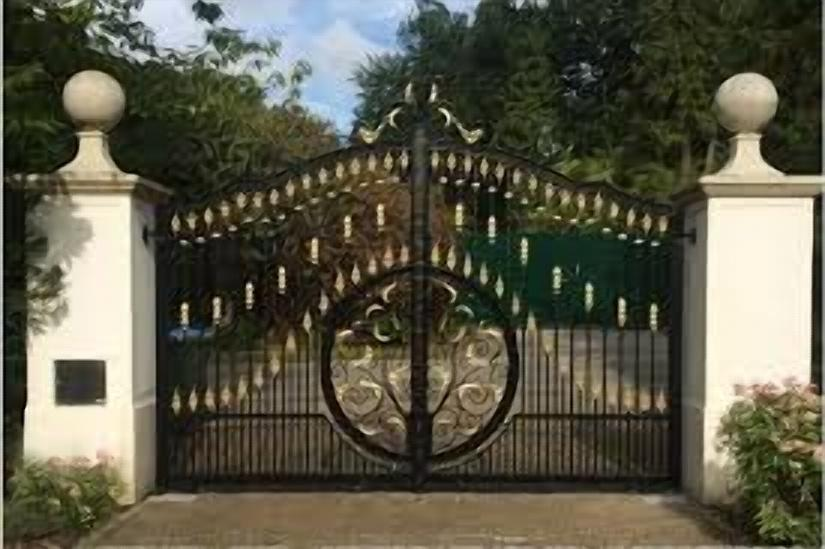Gate: (153, 77, 685, 493)
